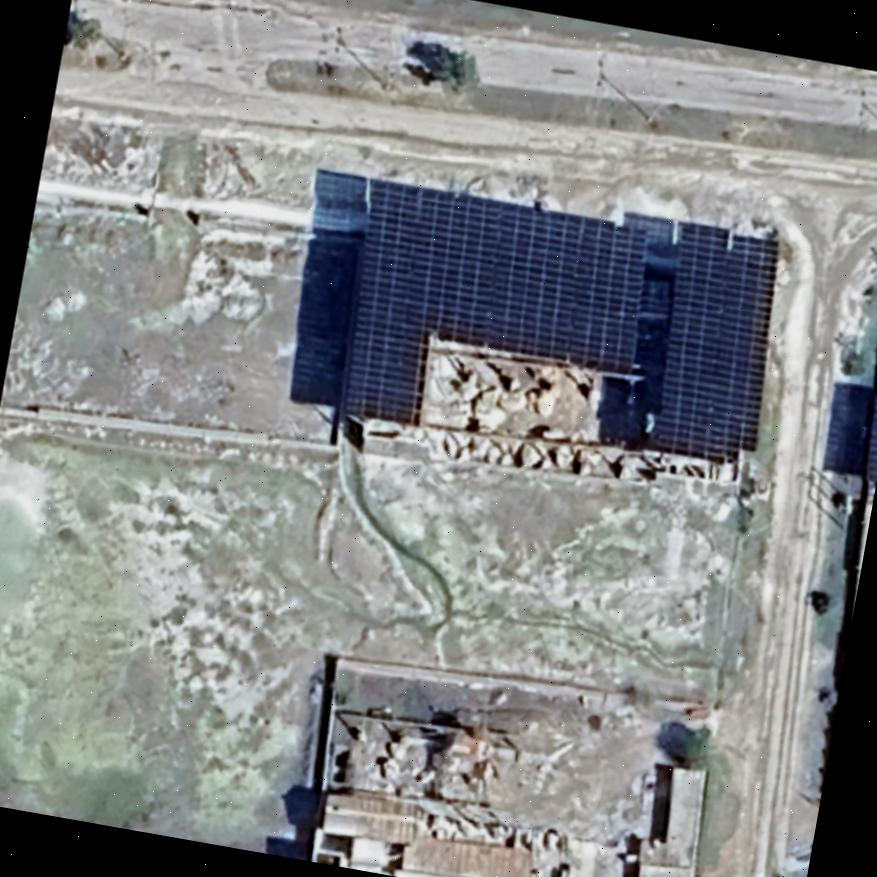Solarpanel: (318, 168, 668, 475), (630, 214, 797, 476), (854, 382, 877, 486)
